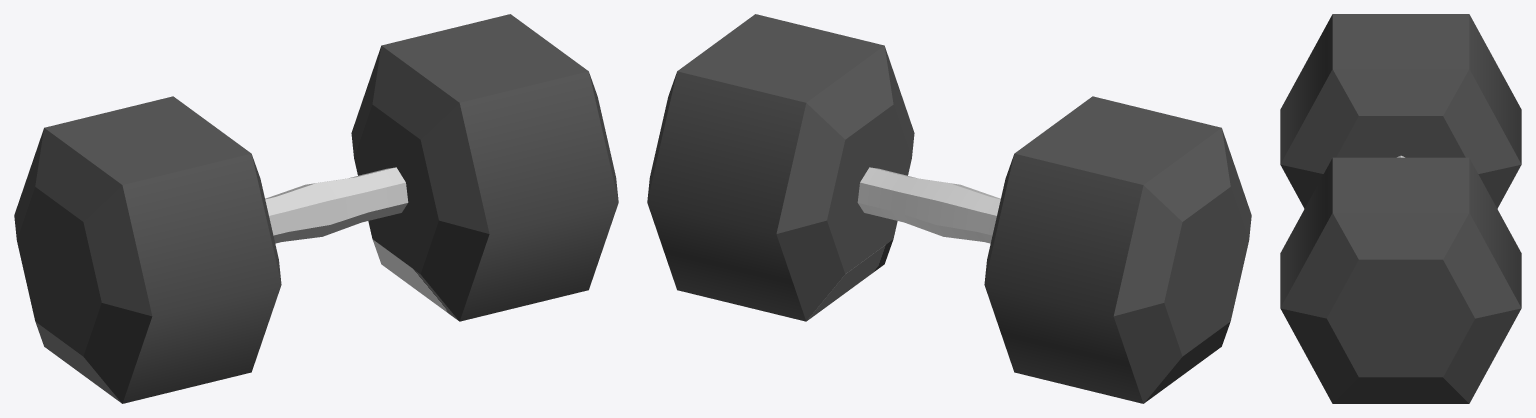
The model's file is DumbbellModele02.fbx.
3 views of the same model, side by side, from view 1: azimuth 30°, elevation 25°; view 2: azimuth 150°, elevation 25°; view 3: azimuth 270°, elevation 25° (orthographic). The views are drawn at different scales.
Visible parts, largest first — view 1: Dumbbell; view 2: Dumbbell; view 3: Dumbbell.
Part boxes in pixels (box(x1,y1,x2,y2)): Dumbbell: box(14, 14, 618, 403); Dumbbell: box(647, 14, 1251, 403); Dumbbell: box(1280, 14, 1521, 403).
Size of the model in its own units: 36.89 by 15 by 17.16.
